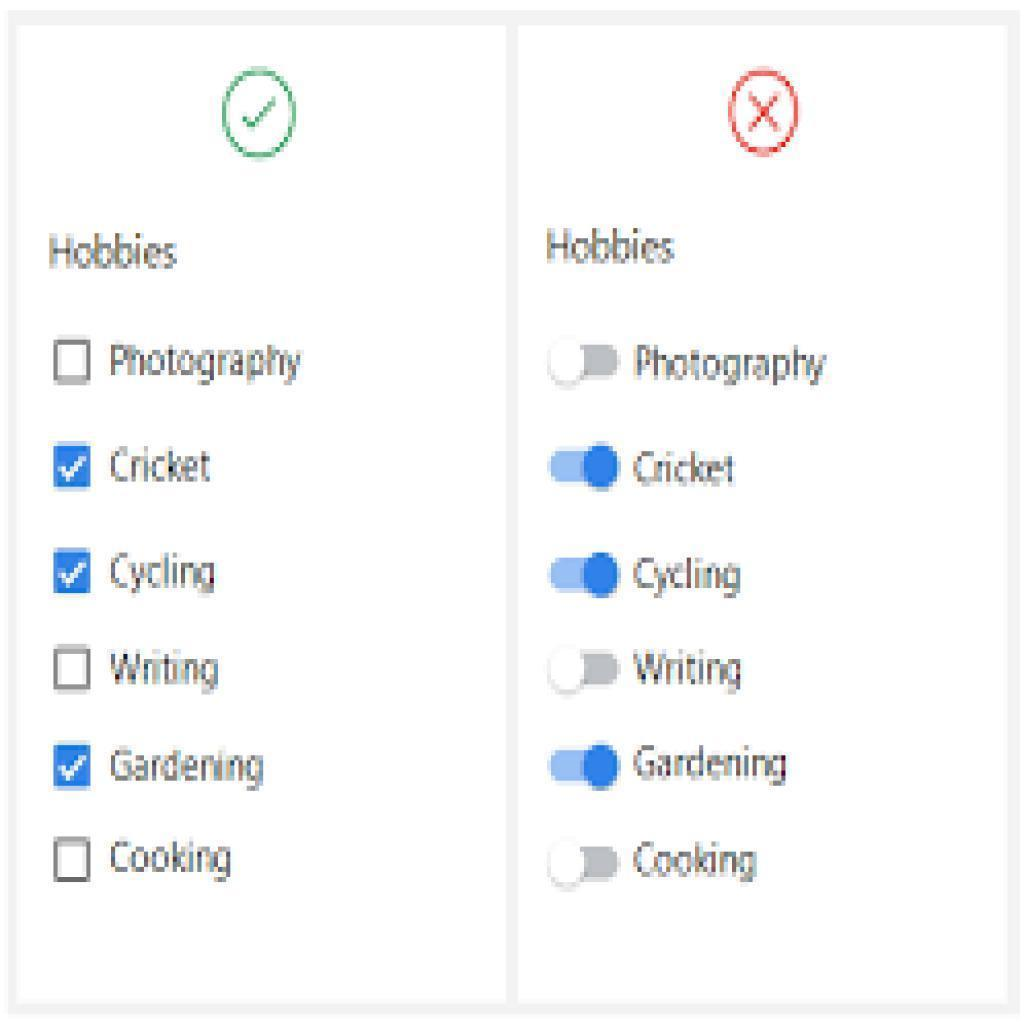checkbox: (51, 443, 94, 489), (51, 644, 93, 690), (52, 741, 92, 789), (52, 835, 92, 883), (53, 548, 92, 595), (55, 338, 90, 382)
switch: (549, 831, 626, 895), (547, 730, 622, 795), (551, 547, 626, 608), (548, 642, 623, 700), (548, 335, 625, 391), (549, 438, 626, 493)
